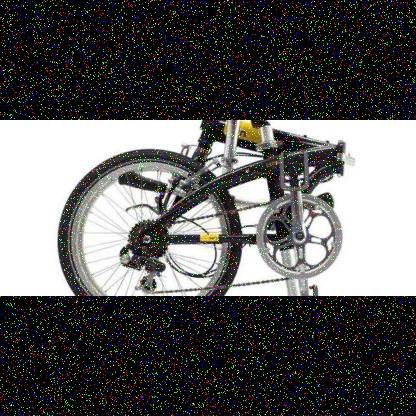Bicycle: (46, 115, 363, 303)
